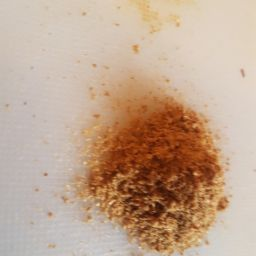Corriander powder: (57, 65, 248, 256), (88, 103, 231, 250)
